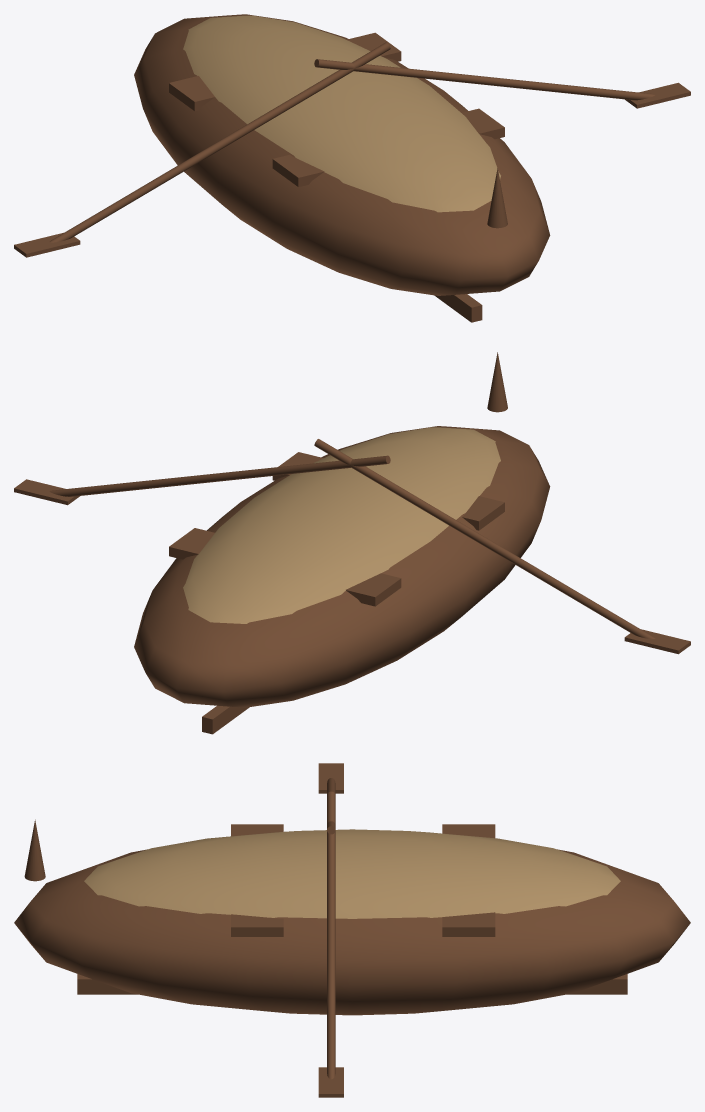
Rendered from rowing-boat-lod0.glb.
3 views of the same model, one above another, from view 1: azimuth 30°, elevation 25°; view 2: azimuth 150°, elevation 25°; view 3: azimuth 270°, elevation 25° (orthographic). The views are drawn at different scales.
Parts seen in each view (by area): view 1: hull, hull-inner, oar (×2), thwart (×2), oar-blade (×2), keel, bow-post; view 2: hull, hull-inner, oar (×2), thwart (×2), oar-blade (×2), keel, bow-post; view 3: hull, hull-inner, thwart (×2), oar, oar-blade (×2), keel, bow-post.
Boxes of the visible parts, left/top/right/bottom form: hull: left=134, top=14, right=550, bottom=295; hull-inner: left=183, top=15, right=500, bottom=212; oar (×2): left=49, top=42, right=655, bottom=242; thwart (×2): left=169, top=32, right=504, bottom=187; oar-blade (×2): left=14, top=82, right=690, bottom=257; keel: left=434, top=294, right=482, bottom=322; bow-post: left=487, top=168, right=507, bottom=228; hull: left=134, top=426, right=550, bottom=707; hull-inner: left=183, top=427, right=500, bottom=623; oar (×2): left=49, top=439, right=655, bottom=638; thwart (×2): left=169, top=452, right=504, bottom=606; oar-blade (×2): left=14, top=479, right=690, bottom=654; keel: left=202, top=705, right=249, bottom=734; bow-post: left=487, top=352, right=507, bottom=412; hull: left=14, top=849, right=690, bottom=1015; hull-inner: left=84, top=829, right=620, bottom=918; thwart (×2): left=231, top=824, right=495, bottom=936; oar: left=327, top=791, right=335, bottom=1079; oar-blade (×2): left=318, top=763, right=343, bottom=1097; keel: left=77, top=974, right=627, bottom=994; bow-post: left=24, top=819, right=45, bottom=881.
Size of the model in its own units: 3.7 by 0.9543 by 3.2.
